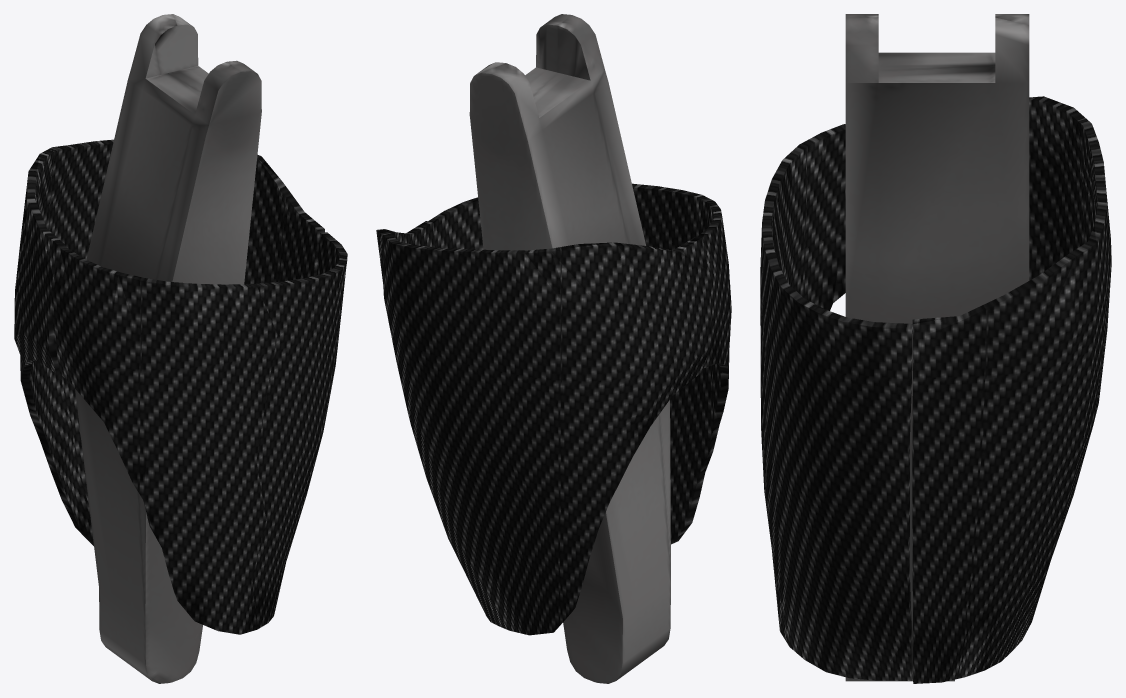
Rendered from l_uleg.dae.
The picture shows the model from 3 angles, left to right: view 1: azimuth 30°, elevation 25°; view 2: azimuth 150°, elevation 25°; view 3: azimuth 270°, elevation 25°; orthographic projection. The views are drawn at different scales.
Visible parts, largest first — view 1: p22795_2, p40535_1, p23207_2; view 2: p23207_2, p40535_1, p22795_2; view 3: p23207_2, p22795_2, p40535_1.
Boxes of the visible parts, x1=… form: p22795_2: x1=51, y1=232, x2=347, y2=634; p40535_1: x1=75, y1=14, x2=261, y2=683; p23207_2: x1=14, y1=139, x2=324, y2=545; p23207_2: x1=376, y1=221, x2=711, y2=635; p40535_1: x1=469, y1=14, x2=670, y2=683; p22795_2: x1=428, y1=183, x2=731, y2=544; p23207_2: x1=912, y1=96, x2=1111, y2=683; p22795_2: x1=760, y1=124, x2=912, y2=680; p40535_1: x1=845, y1=14, x2=1029, y2=681.
Bounding box in the file's own units: 0.2001 × 0.1865 × 0.4091.
